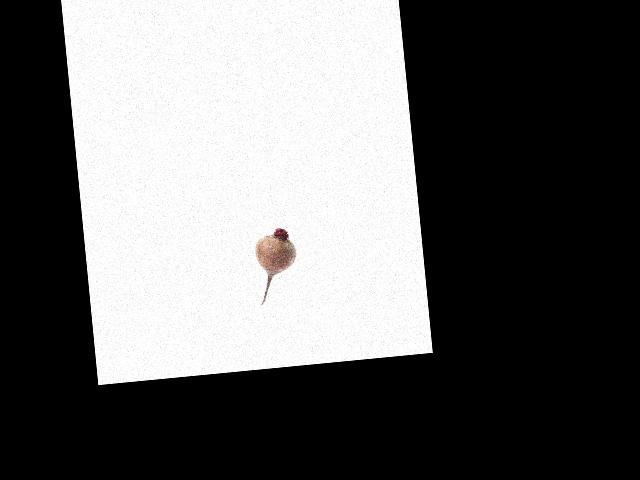beet: (253, 226, 301, 304)
